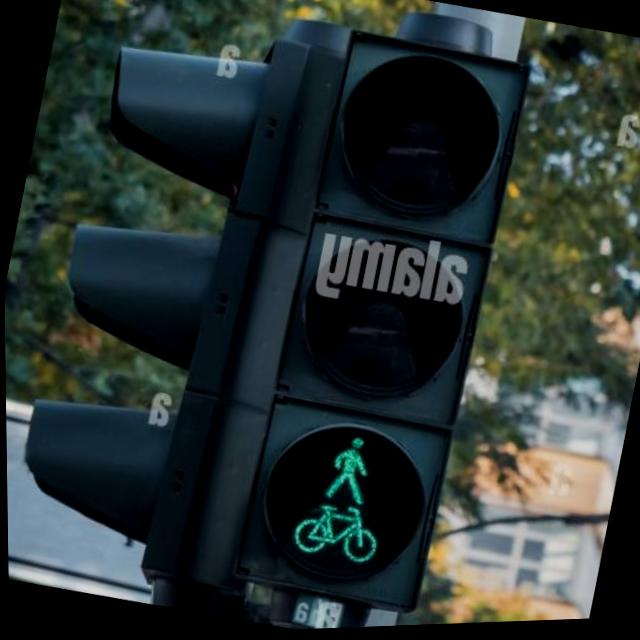green_light: (315, 420, 389, 512)
